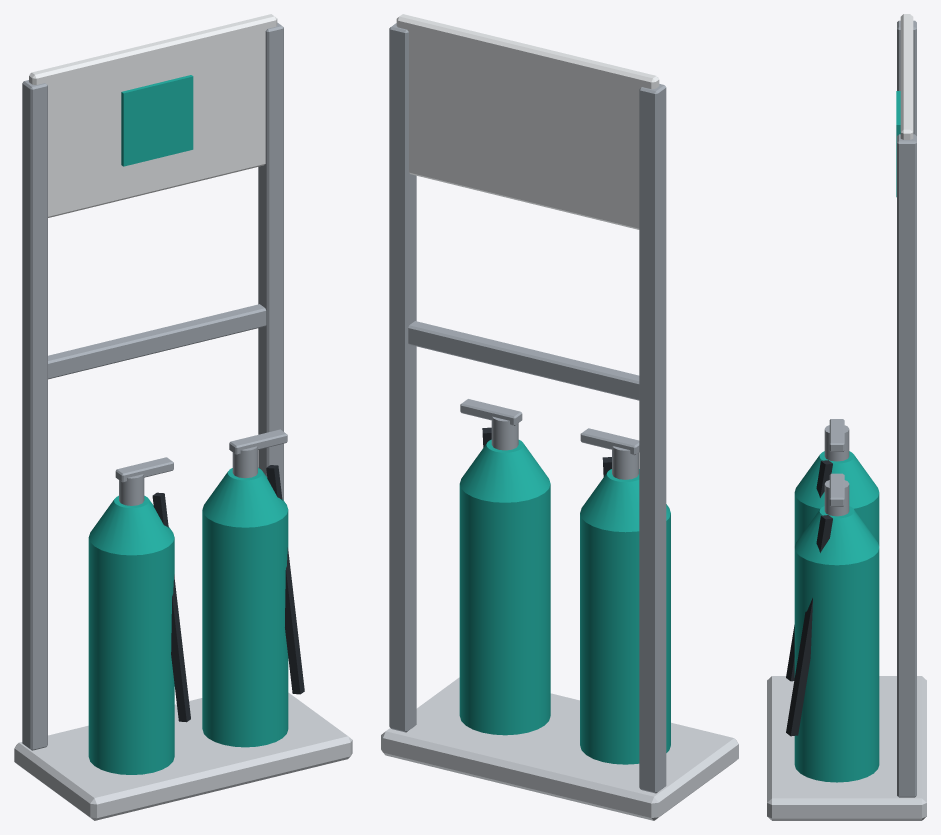
Rendered from fire-extinguisher-stand.glb.
The picture shows the model from 3 angles, left to right: view 1: azimuth 30°, elevation 25°; view 2: azimuth 150°, elevation 25°; view 3: azimuth 270°, elevation 25°; orthographic projection. The views are drawn at different scales.
Parts seen in each view (by area): view 1: fire-extinguisher-stand; view 2: fire-extinguisher-stand; view 3: fire-extinguisher-stand.
Boxes of the visible parts, x1=… form: fire-extinguisher-stand: x1=14, y1=14, x2=352, y2=820; fire-extinguisher-stand: x1=381, y1=14, x2=738, y2=820; fire-extinguisher-stand: x1=767, y1=14, x2=926, y2=820.
Bounding box in the file's own units: 0.6 × 1.52 × 0.32.
